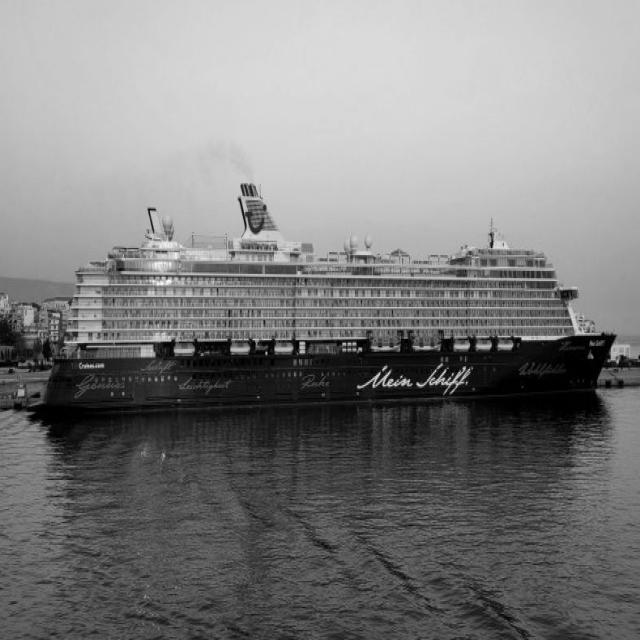cruises: (38, 183, 619, 413)
